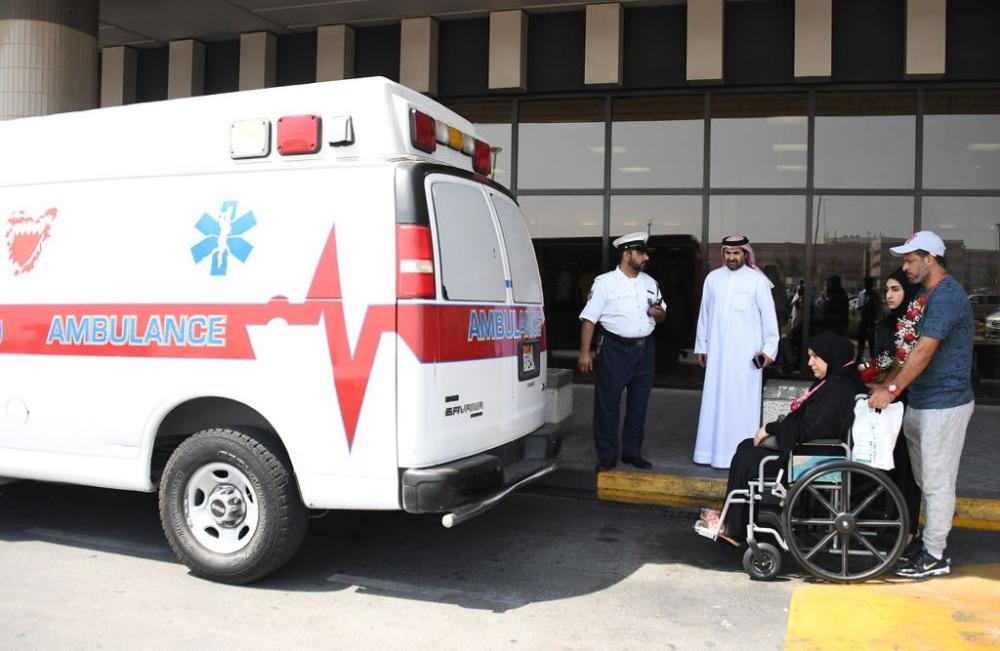ambulance_off: (0, 77, 559, 579)
